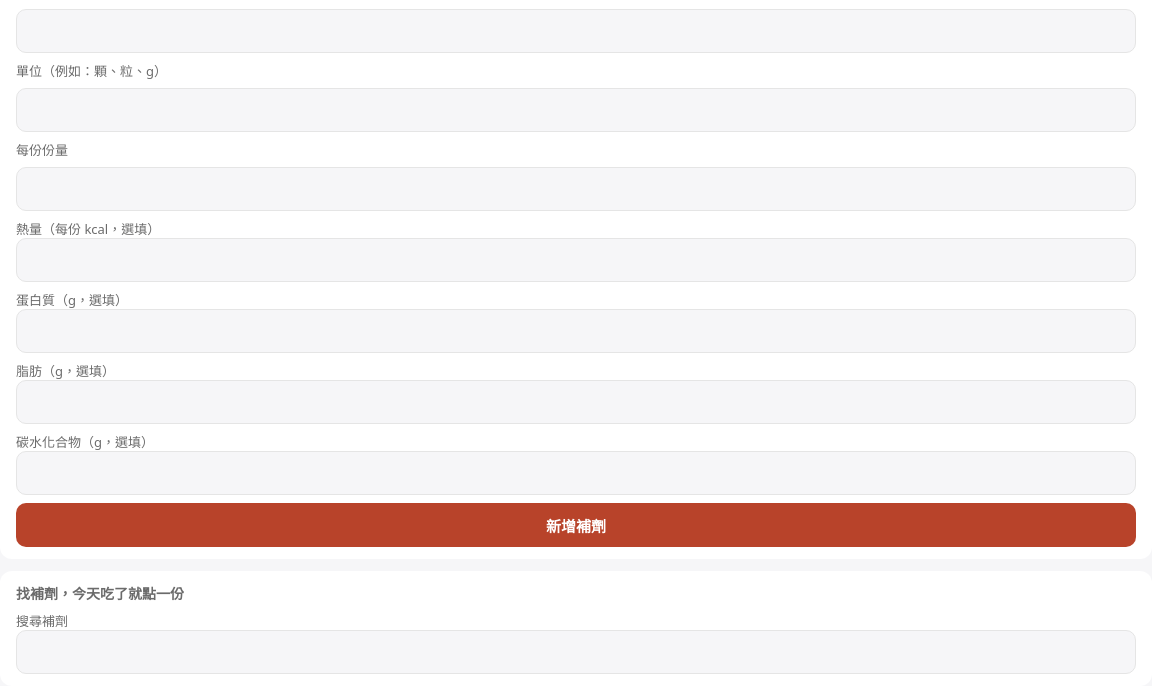
Test: 補劑 /supplements › 輸入之後（等過 debounce）發出帶 q 的請求，結果顯示出來
(page scrolled)
Type "魚" into the field labelled "搜尋補劑". click: (576, 652)
box: [16,630,1136,674]
(page scrolled)
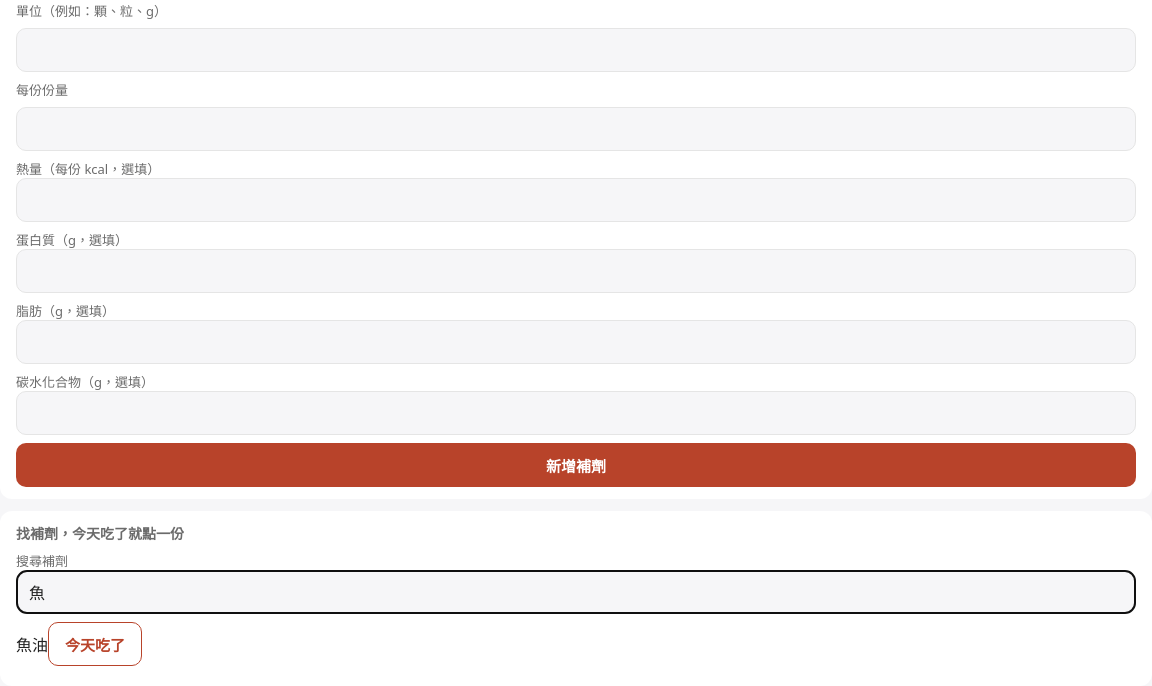
Check: the text "魚油" is shown, box [16,634,48,656]
